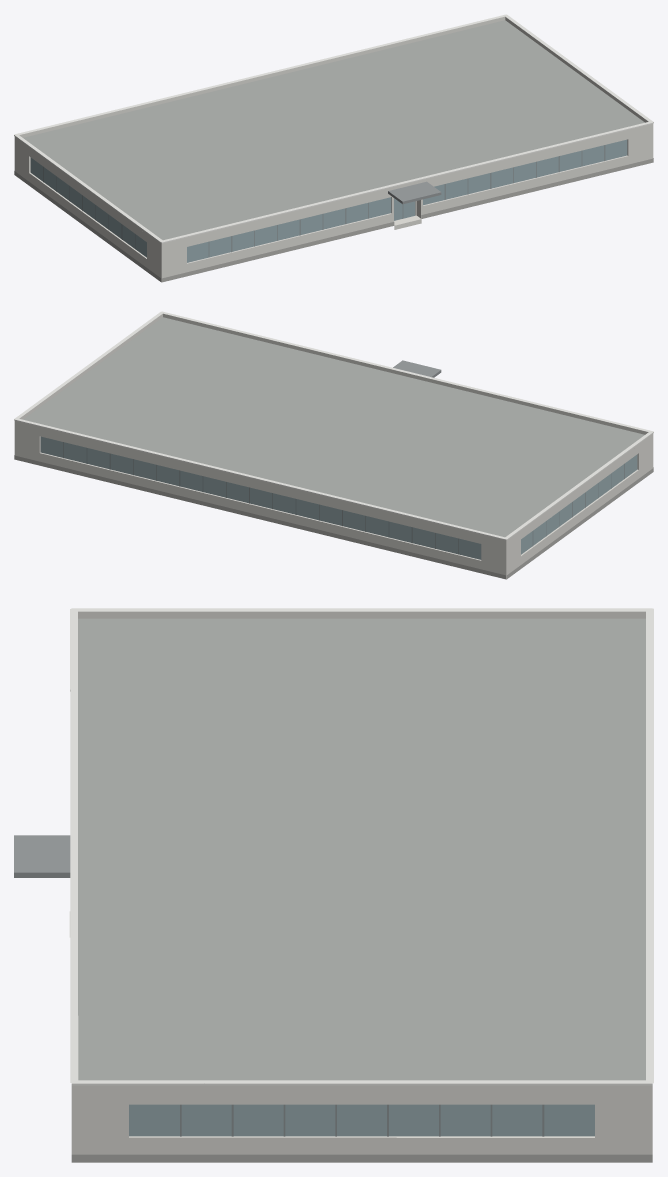
3 views of the same model, one above another, from view 1: azimuth 30°, elevation 25°; view 2: azimuth 150°, elevation 25°; view 3: azimuth 270°, elevation 25° (orthographic). The views are drawn at different scales.
Visible parts, largest first — view 1: b115951830__roof, b115951830__wall, b115951830__glass, b115951830__parapet, b115951830__trim, b115951830__base, b115951830__canopy, b115951830__frame; view 2: b115951830__roof, b115951830__wall, b115951830__glass, b115951830__parapet, b115951830__trim, b115951830__base, b115951830__frame, b115951830__canopy; view 3: b115951830__roof, b115951830__wall, b115951830__glass, b115951830__trim, b115951830__parapet, b115951830__base, b115951830__canopy.
Part boxes in pixels (box(x1,y1,x2,y2)): b115951830__roof: box(23, 20, 644, 240); b115951830__wall: box(14, 126, 653, 282); b115951830__glass: box(30, 139, 627, 262); b115951830__parapet: box(14, 16, 653, 245); b115951830__trim: box(14, 14, 653, 243); b115951830__base: box(14, 158, 653, 282); b115951830__canopy: box(388, 181, 441, 204); b115951830__frame: box(43, 145, 605, 257); b115951830__roof: box(23, 317, 644, 579); b115951830__wall: box(14, 423, 653, 578); b115951830__glass: box(40, 436, 637, 559); b115951830__parapet: box(14, 313, 653, 542); b115951830__trim: box(14, 311, 653, 540); b115951830__base: box(14, 455, 653, 579); b115951830__frame: box(63, 442, 624, 554); b115951830__canopy: box(393, 360, 441, 377); b115951830__roof: box(78, 618, 645, 1080); b115951830__wall: box(71, 1090, 652, 1154); b115951830__glass: box(129, 1104, 594, 1136); b115951830__trim: box(70, 608, 653, 1085); b115951830__parapet: box(71, 611, 652, 1090); b115951830__base: box(71, 1154, 652, 1162); b115951830__canopy: box(14, 835, 70, 877).
Size of the model in its own units: 50.87 by 4.35 by 28.94.
